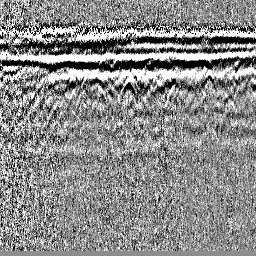cavity: (121, 77, 136, 96)
